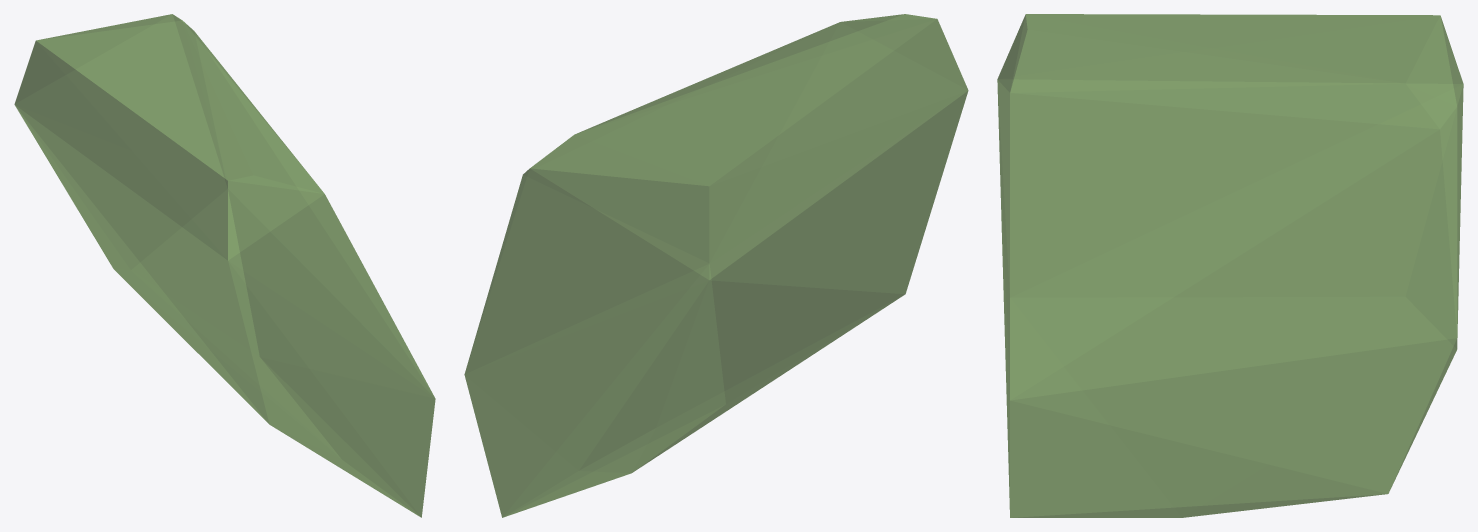
The picture shows the model from 3 angles, left to right: view 1: azimuth 30°, elevation 25°; view 2: azimuth 150°, elevation 25°; view 3: azimuth 270°, elevation 25°; orthographic projection. The views are drawn at different scales.
Visible parts, largest first — view 1: Shape_IndexedFaceSet.134_Shape_IndexedFaceSet.9655; view 2: Shape_IndexedFaceSet.134_Shape_IndexedFaceSet.9655; view 3: Shape_IndexedFaceSet.134_Shape_IndexedFaceSet.9655.
Boxes of the visible parts, x1,y1,x2,y2 form: Shape_IndexedFaceSet.134_Shape_IndexedFaceSet.9655: [14, 14, 435, 517]; Shape_IndexedFaceSet.134_Shape_IndexedFaceSet.9655: [464, 14, 968, 517]; Shape_IndexedFaceSet.134_Shape_IndexedFaceSet.9655: [997, 14, 1463, 517].
Size of the model in its own units: 0.1016 by 0.1717 by 0.1786.
